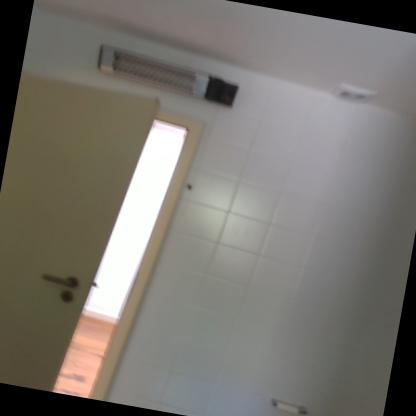semi: (0, 63, 218, 411)
